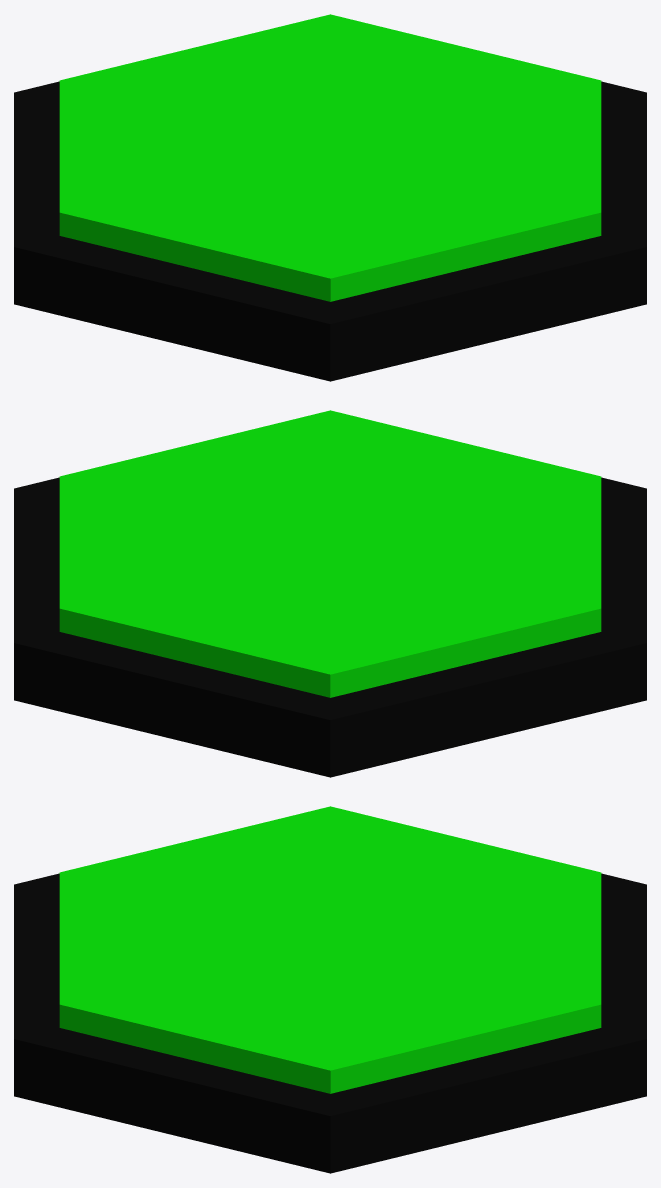
File: Map.fbx
3 renders of one model, top to bottom at view 1: azimuth 30°, elevation 25°; view 2: azimuth 150°, elevation 25°; view 3: azimuth 270°, elevation 25°, orthographic.
Parts seen in each view (by area): view 1: pCylinder2, pCylinder1; view 2: pCylinder2, pCylinder1; view 3: pCylinder2, pCylinder1.
Part boxes in pixels (x1=…): pCylinder2: x1=59, y1=14, x2=601, y2=301; pCylinder1: x1=14, y1=81, x2=646, y2=381; pCylinder2: x1=59, y1=410, x2=601, y2=697; pCylinder1: x1=14, y1=477, x2=646, y2=777; pCylinder2: x1=59, y1=806, x2=601, y2=1093; pCylinder1: x1=14, y1=873, x2=646, y2=1173.
Size of the model in its own units: 2 by 0.2435 by 1.73.
